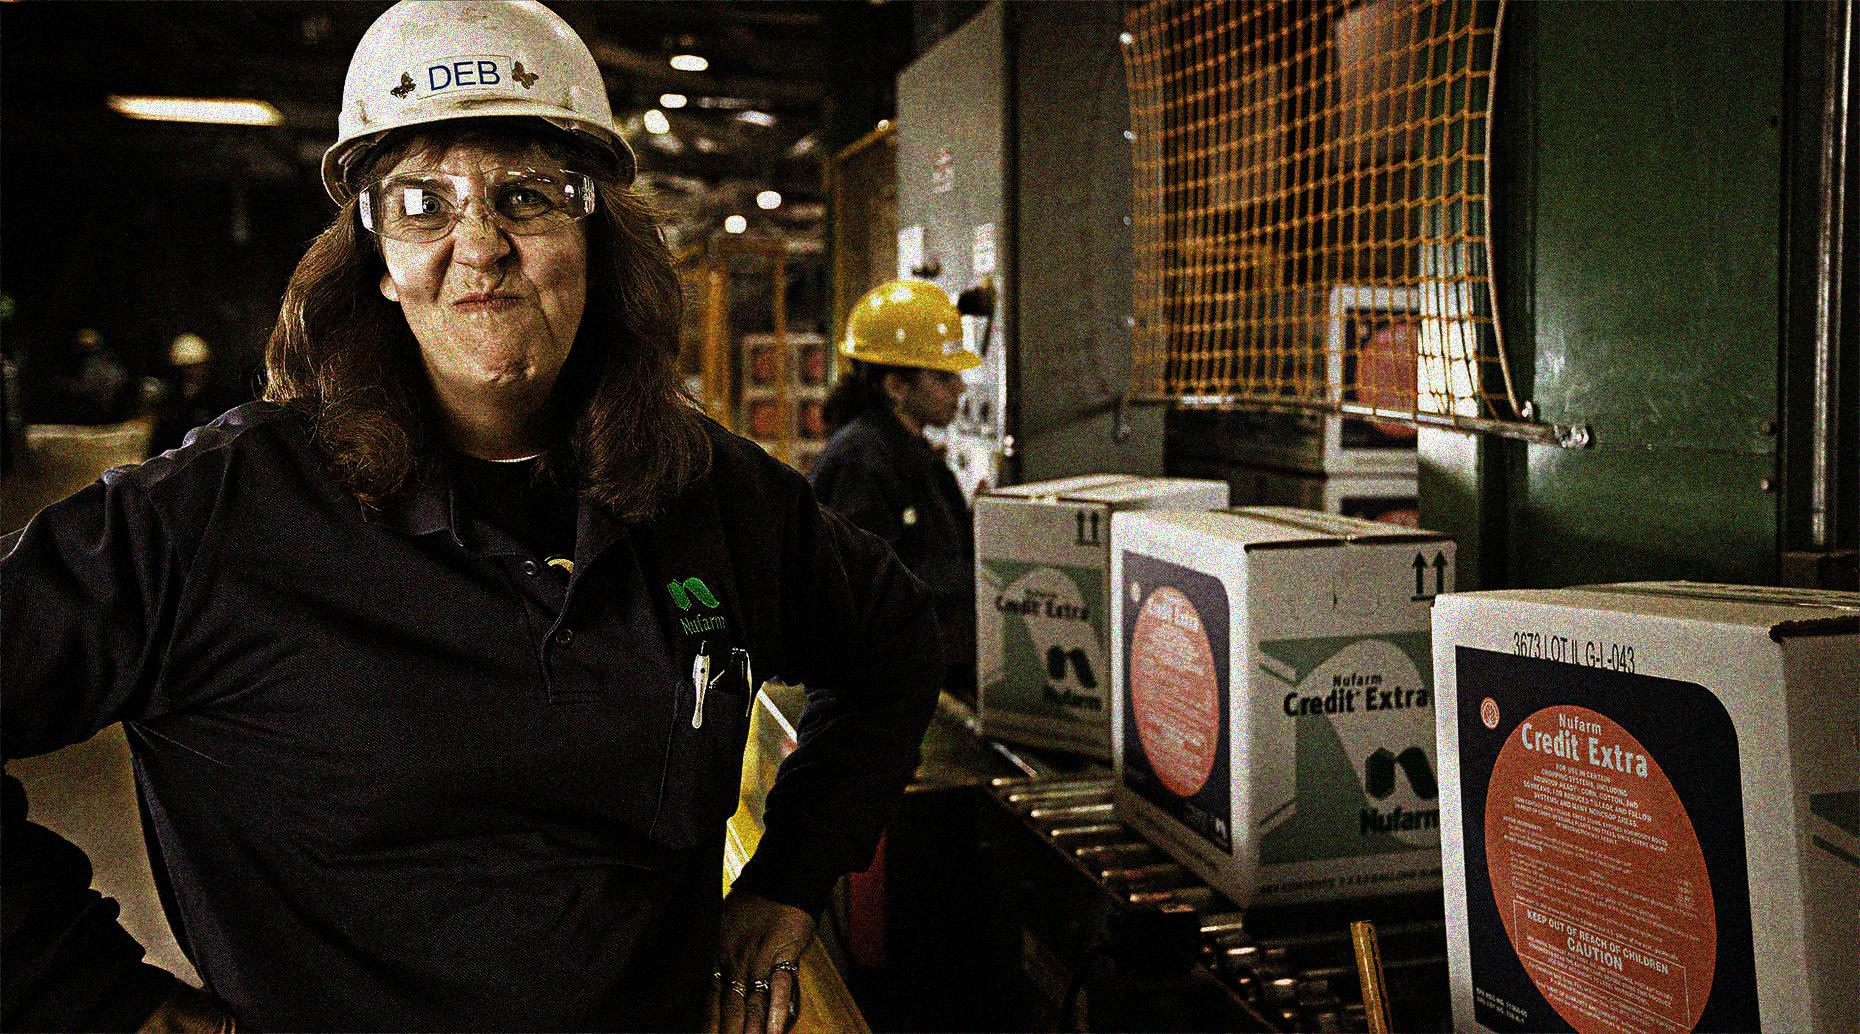helmet: (320, 1, 638, 382), (834, 279, 983, 439)
